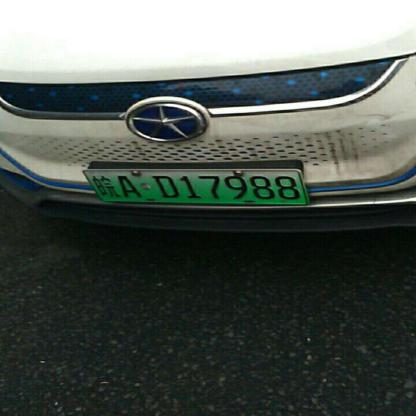lp: (84, 171, 306, 203)
